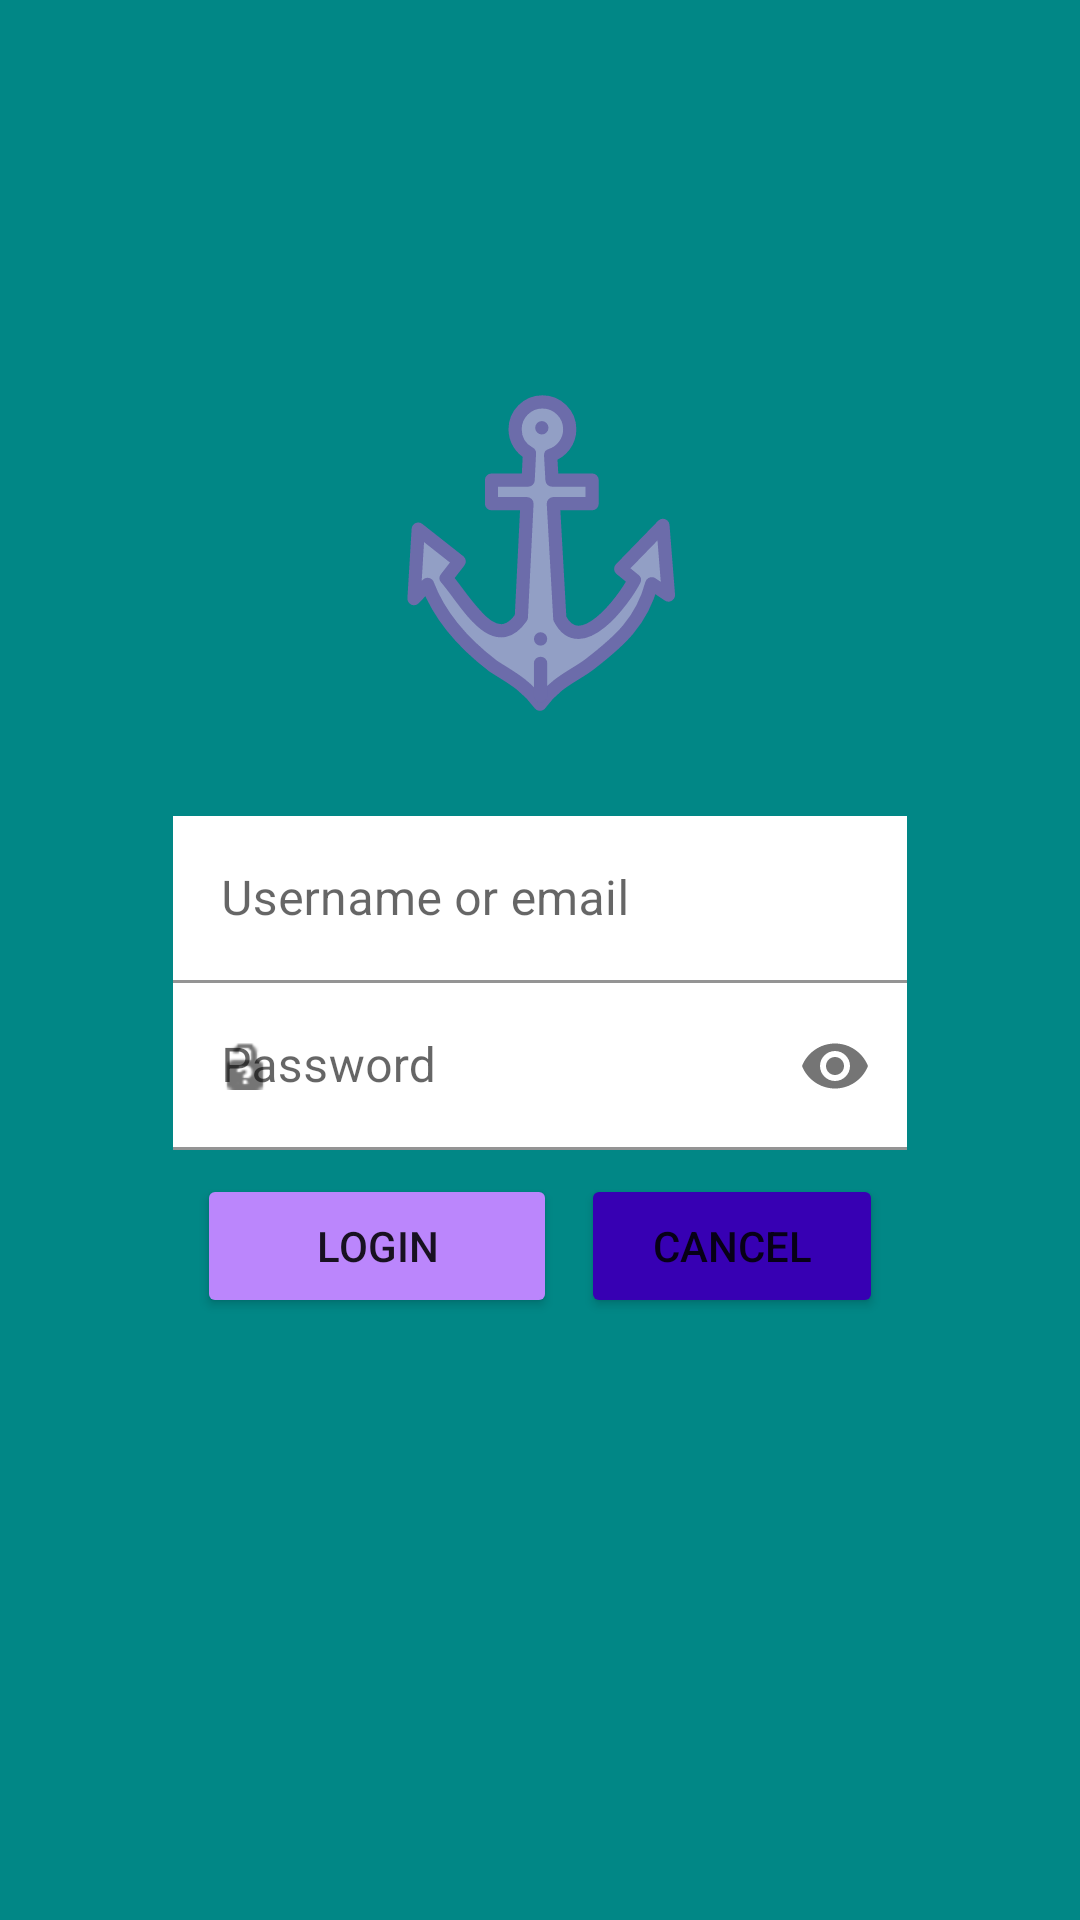

Where to tap for icons on this 1080×1920 app screen, as point (x, y):
ancla: point (541, 553)
